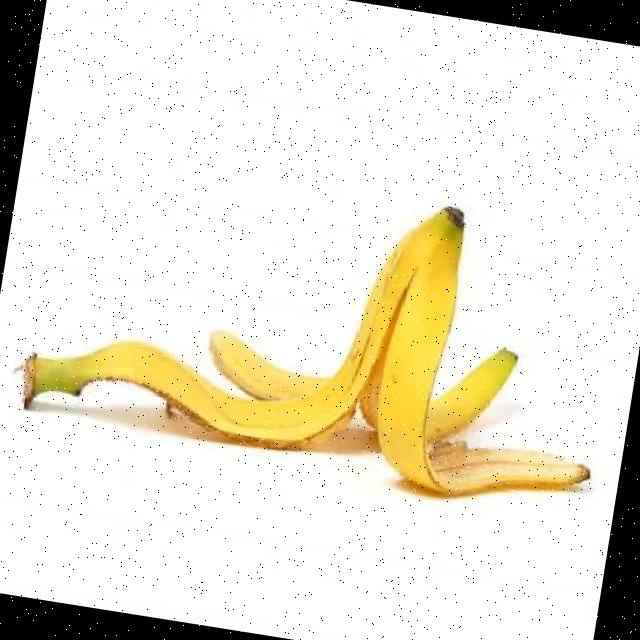banana-peel: (6, 140, 628, 518)
